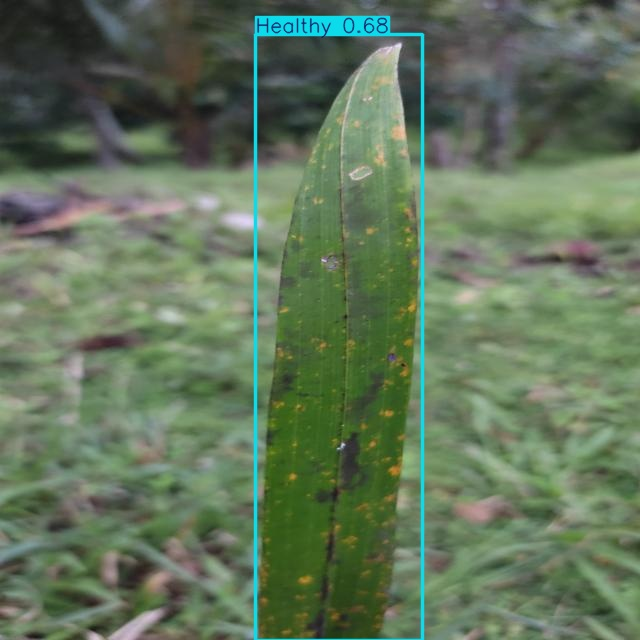Healthy: (255, 34, 422, 640)
